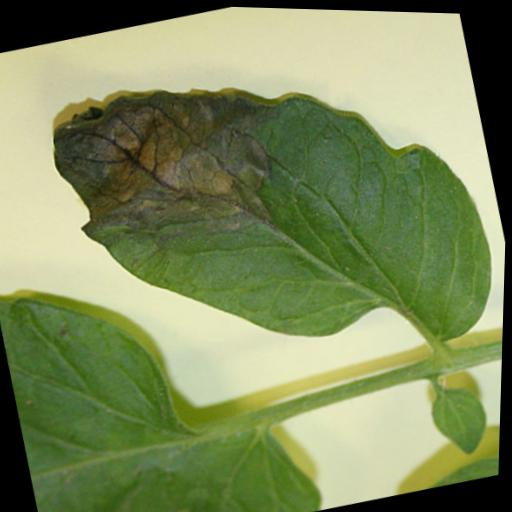Late Blight: (36, 13, 512, 420)
